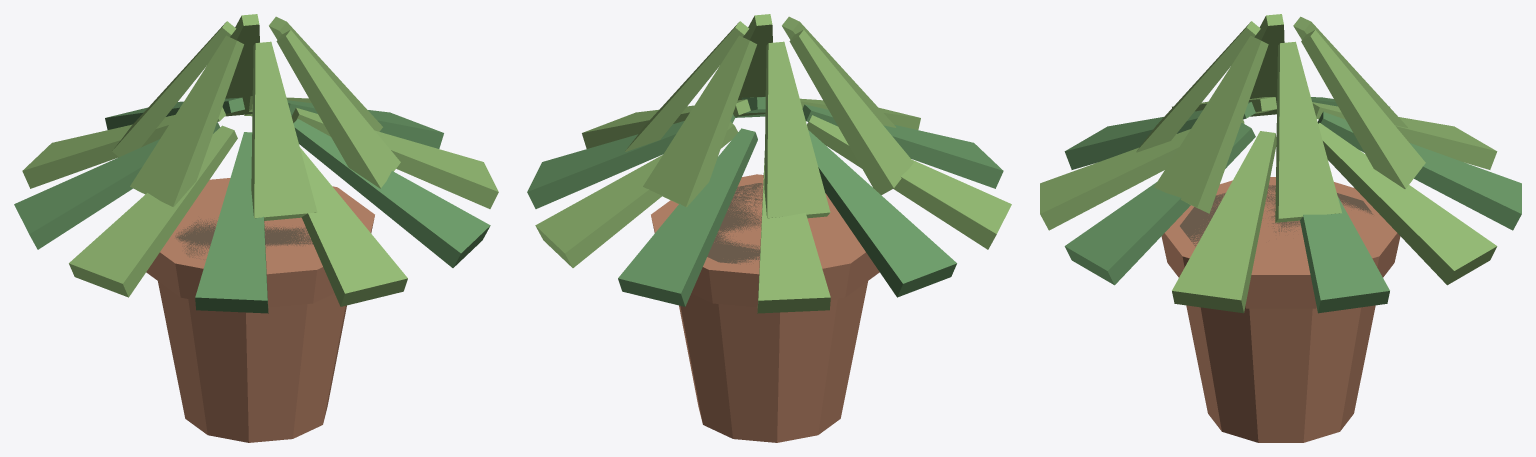
The model's file is BUILD0052_PottedIndoorFern.fbx.
The picture shows the model from 3 angles, left to right: view 1: azimuth 30°, elevation 25°; view 2: azimuth 150°, elevation 25°; view 3: azimuth 270°, elevation 25°; orthographic projection.
Visible parts, largest first — view 1: BUILD0052_PottedIndoorFern; view 2: BUILD0052_PottedIndoorFern; view 3: BUILD0052_PottedIndoorFern.
Boxes of the visible parts, box(x1,y1,x2,y2) form: BUILD0052_PottedIndoorFern: box(14, 14, 498, 442); BUILD0052_PottedIndoorFern: box(527, 14, 1011, 442); BUILD0052_PottedIndoorFern: box(1040, 14, 1521, 442).
Bounding box in the file's own units: 1.18 × 1.05 × 1.19.
